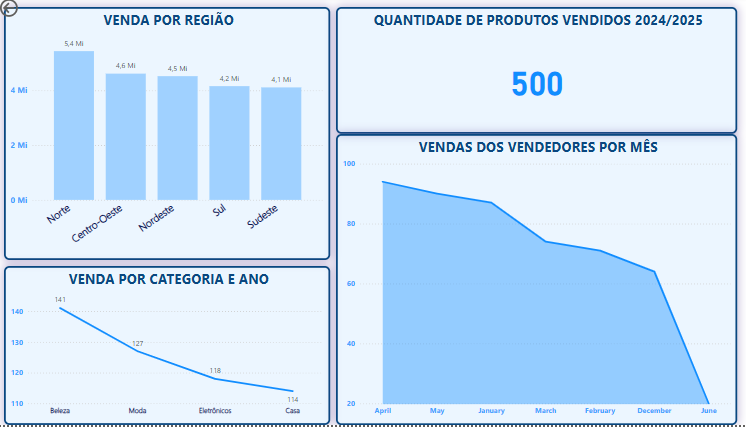

What the dashboard file says about the page in this screenshot:
{"tool":"powerbi","page":{"name":"Página 1","canvas":[1280,720],"ordinal":0},"visuals":[{"type":"columnChart","title":"VENDA POR REGIÃO ","fields":{"Category":["Base de Vendas.Região"],"Y":["Sum(Base de Vendas.Data da Venda)"]},"box":[11.8,18.5,547.6,425],"z":0},{"type":"lineChart","title":"VENDA POR CATEGORIA E ANO","fields":{"Category":["Base de Vendas.Categoria"],"Y":["CountNonNull(Base de Vendas.Ano)"]},"box":[12,453,548,267],"z":1},{"type":"card","title":"QUANTIDADE DE PRODUTOS VENDIDOS 2024/2025","fields":{"Values":["CountNonNull(Base de Vendas.Produto)"]},"box":[569.4,18.5,673.6,213.3],"z":2},{"type":"areaChart","title":"VENDAS DOS VENDEDORES POR MÊS","fields":{"Category":["Base de Vendas.Mês"],"Y":["CountNonNull(Base de Vendas.Vendedor)"]},"box":[569.4,231.8,673.6,488.8],"z":3},{"type":"actionButton","box":[0,0,100,40],"z":4}]}

Visuals, with their boxes in screenshot pixels (x1, y1, x2, y2):
"VENDA POR REGIÃO " columnChart: locate(1, 5, 328, 258)
"VENDA POR CATEGORIA E ANO" lineChart: locate(1, 264, 328, 423)
"QUANTIDADE DE PRODUTOS VENDIDOS 2024/2025" card: locate(333, 5, 735, 132)
"VENDAS DOS VENDEDORES POR MÊS" areaChart: locate(333, 132, 735, 424)
actionButton: locate(0, 0, 54, 18)
